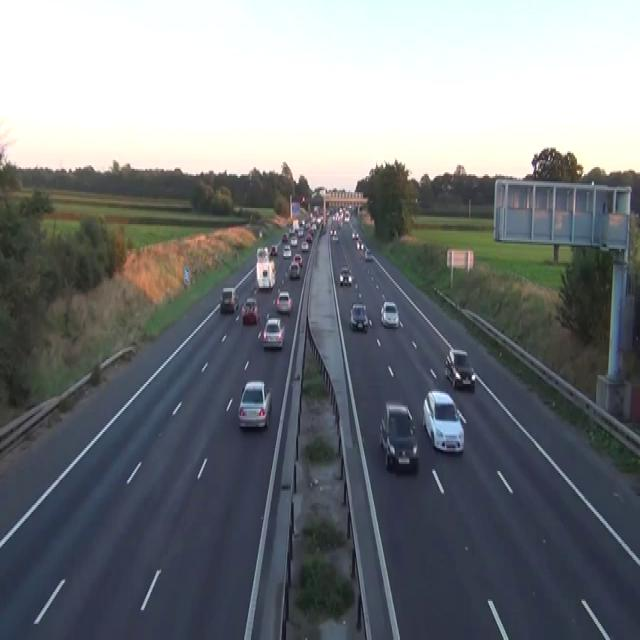Car: (379, 400, 418, 471), (422, 389, 464, 454), (237, 378, 271, 428), (444, 349, 475, 391), (262, 316, 284, 348), (349, 302, 368, 331), (380, 301, 399, 327), (220, 286, 238, 313), (241, 297, 259, 323), (275, 290, 292, 313), (339, 267, 352, 286), (288, 261, 300, 279), (256, 245, 268, 263), (293, 252, 303, 266), (282, 244, 291, 258), (364, 247, 373, 260), (300, 240, 308, 251), (270, 244, 277, 256), (351, 229, 358, 240), (356, 238, 362, 249), (281, 233, 288, 242), (290, 237, 297, 246), (305, 233, 312, 242), (332, 231, 338, 240), (320, 224, 326, 233), (297, 228, 303, 236), (326, 208, 330, 217), (258, 230, 262, 238), (301, 195, 305, 202), (330, 228, 333, 235)
Truck: (256, 245, 275, 290)
